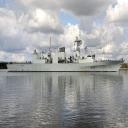Fragata: (7, 27, 127, 74)
